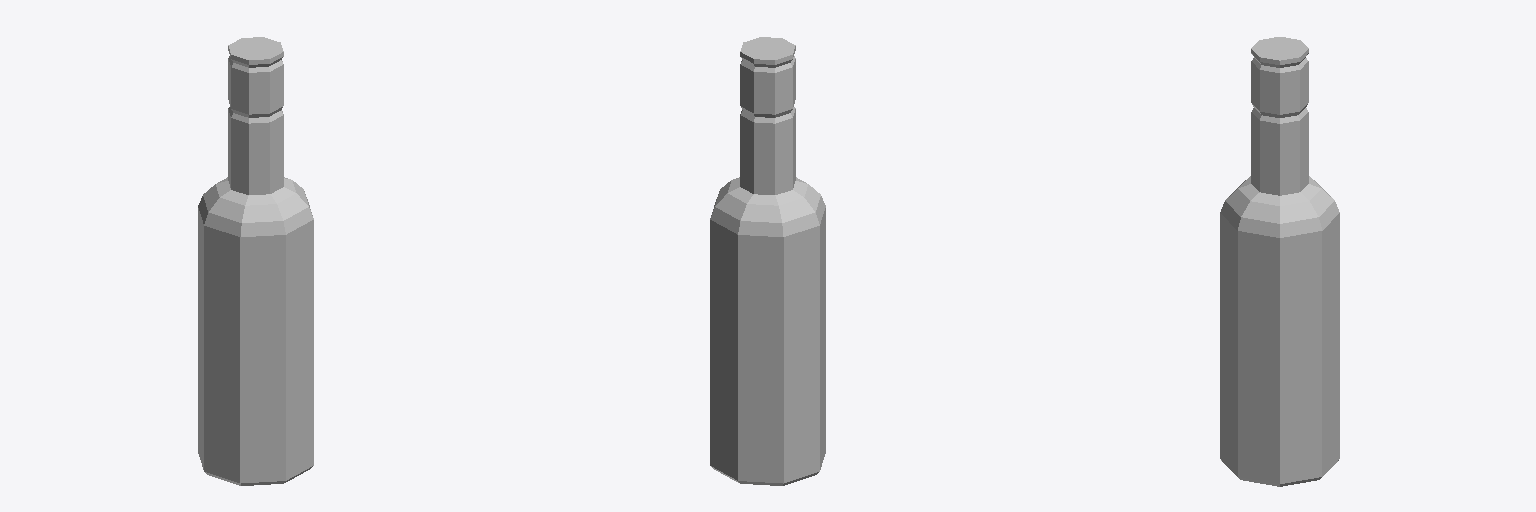
Rendered from wine.obj.
3 views of the same model, side by side, from view 1: azimuth 30°, elevation 25°; view 2: azimuth 150°, elevation 25°; view 3: azimuth 270°, elevation 25° (orthographic).
Visible parts, largest first — view 1: wine; view 2: wine; view 3: wine.
Boxes of the visible parts, x1=… form: wine: x1=198, y1=37, x2=313, y2=485; wine: x1=710, y1=37, x2=825, y2=485; wine: x1=1220, y1=37, x2=1339, y2=486.
Size of the model in its own units: 1.4 by 5.35 by 1.4.